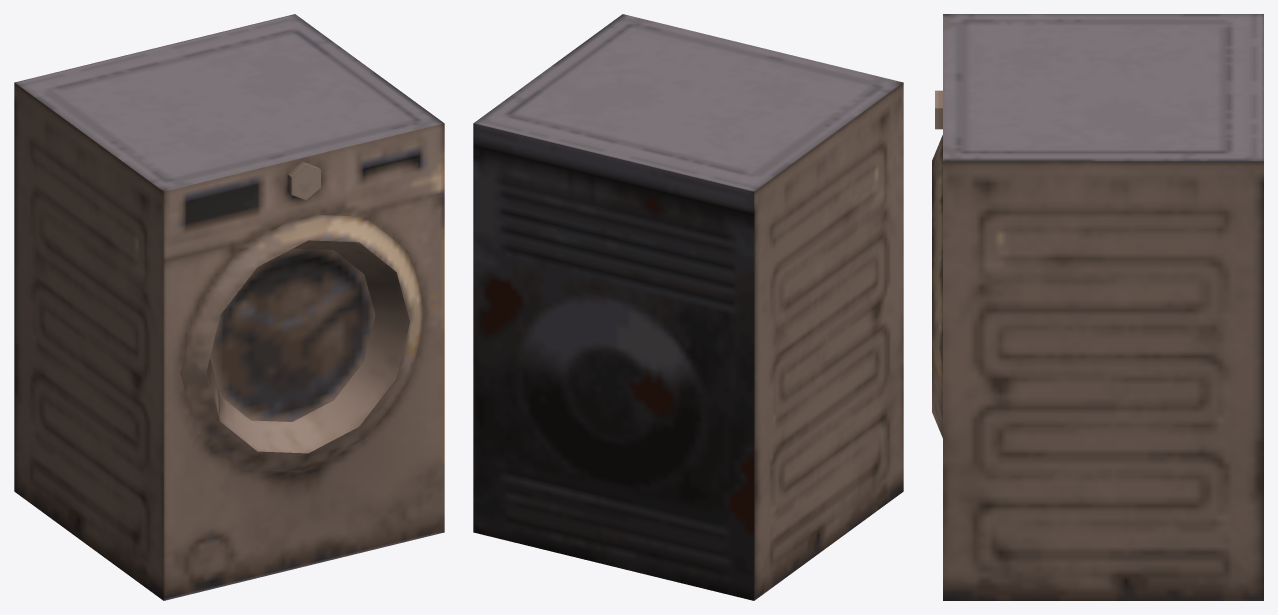
The model's file is stiralka (1).fbx.
The picture shows the model from 3 angles, left to right: view 1: azimuth 30°, elevation 25°; view 2: azimuth 150°, elevation 25°; view 3: azimuth 270°, elevation 25°; orthographic projection. The views are drawn at different scales.
Visible parts, largest first — view 1: washing machine; view 2: washing machine; view 3: washing machine.
Part boxes in pixels (x1,y1,x2,y2): washing machine: [14, 14, 444, 600]; washing machine: [473, 14, 903, 600]; washing machine: [932, 14, 1263, 600].
Size of the model in its own units: 149 by 207 by 142.
1 material, 1 textured.
